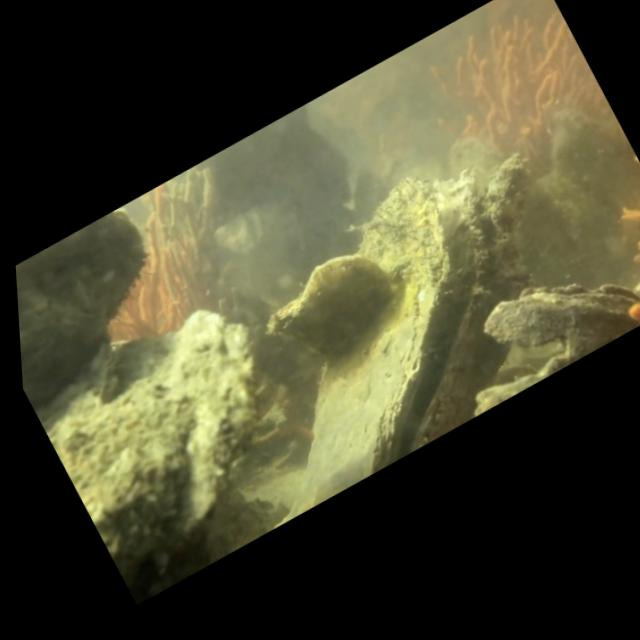Oyster-Closed: (473, 278, 640, 416)
Oyster-Indeterminate: (35, 307, 264, 598), (16, 207, 147, 412)
Oyster-Open: (262, 141, 547, 514)
